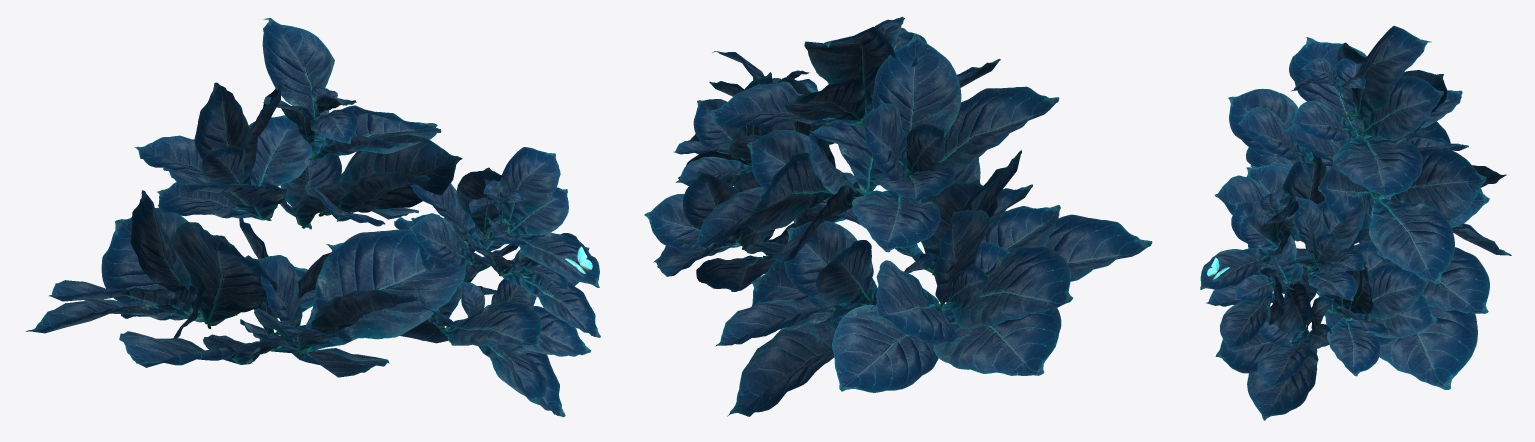
File: butterfly-cleaned-transformed.glb
3 views of the same model, side by side, from view 1: azimuth 30°, elevation 25°; view 2: azimuth 150°, elevation 25°; view 3: azimuth 270°, elevation 25° (orthographic). The views are drawn at different scales.
Parts seen in each view (by area): view 1: tree1, tree2; view 2: tree1, tree2; view 3: tree1, tree2.
Boxes of the visible parts, left/top/right/bottom form: tree1: left=26, top=18, right=468, bottom=377; tree2: left=326, top=147, right=600, bottom=417; tree1: left=691, top=16, right=1152, bottom=416; tree2: left=644, top=51, right=859, bottom=291; tree1: left=1214, top=26, right=1511, bottom=389; tree2: left=1200, top=192, right=1437, bottom=420.
Size of the model in its own units: 35.89 by 29.37 by 25.81.
Materials: 3 (2 with a texture image).
